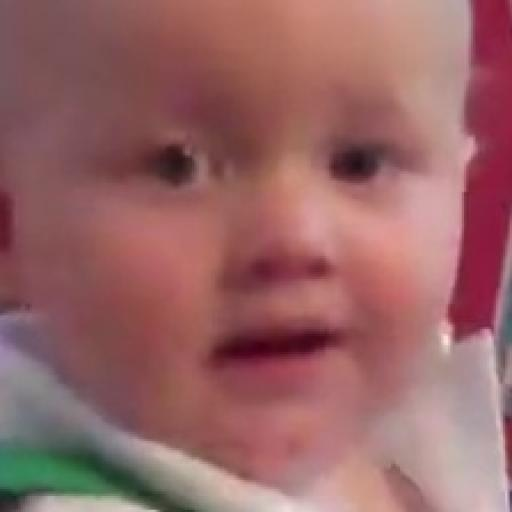Autism: (42, 10, 432, 442)
